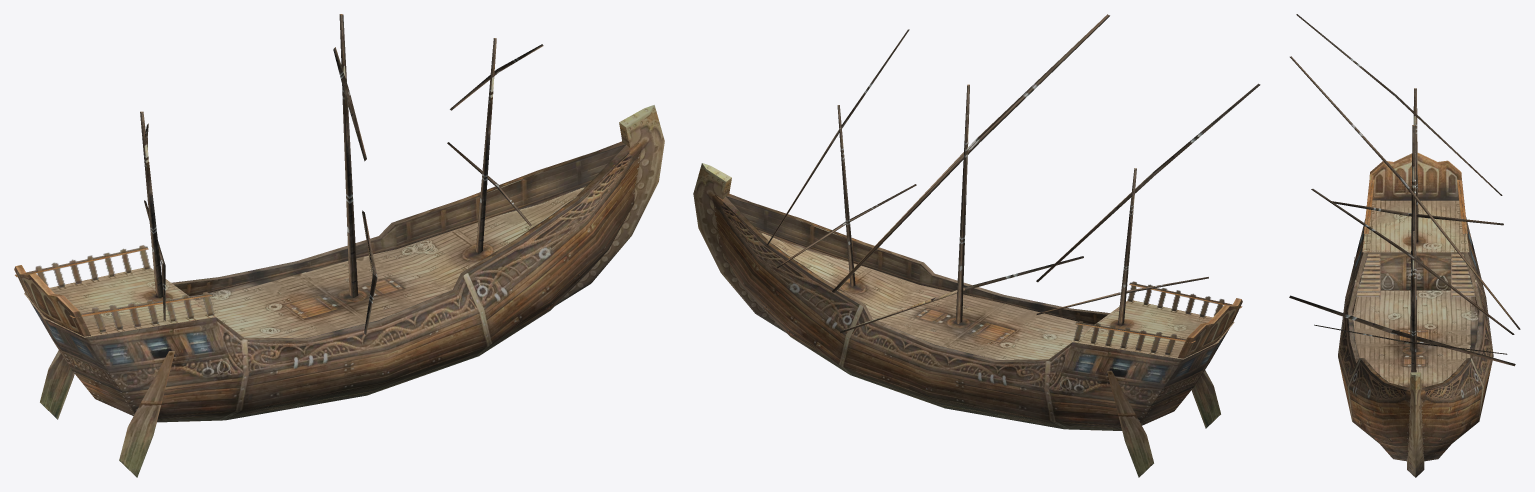
Rendered from orient_lod0.glb.
3 views of the same model, side by side, from view 1: azimuth 30°, elevation 25°; view 2: azimuth 150°, elevation 25°; view 3: azimuth 270°, elevation 25° (orthographic). The views are drawn at different scales.
Visible parts, largest first — view 1: MODEL_data\graphics\vehicle\orient_cargo_ship\rdm\orient_lod; view 2: MODEL_data\graphics\vehicle\orient_cargo_ship\rdm\orient_lod; view 3: MODEL_data\graphics\vehicle\orient_cargo_ship\rdm\orient_lod.
Part boxes in pixels (left/top/right/bottom): MODEL_data\graphics\vehicle\orient_cargo_ship\rdm\orient_lod: left=14, top=14, right=664, bottom=477; MODEL_data\graphics\vehicle\orient_cargo_ship\rdm\orient_lod: left=693, top=14, right=1260, bottom=477; MODEL_data\graphics\vehicle\orient_cargo_ship\rdm\orient_lod: left=1289, top=14, right=1520, bottom=477.
Bounding box in the file's own units: 6.78 × 4.31 × 2.76.
Materials: 1 (1 with a texture image).
